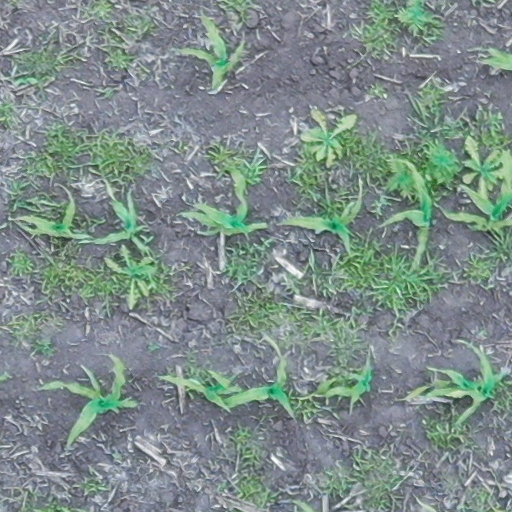planta: (418, 343, 511, 431), (63, 352, 139, 445), (179, 163, 270, 237), (381, 156, 438, 272), (281, 177, 365, 254), (177, 12, 246, 89), (217, 354, 295, 417), (158, 366, 245, 413), (90, 190, 152, 254), (16, 197, 92, 244), (323, 358, 376, 406), (403, 163, 410, 170), (484, 182, 491, 189), (498, 190, 505, 197), (236, 167, 243, 174), (232, 389, 239, 396), (216, 394, 223, 400)
